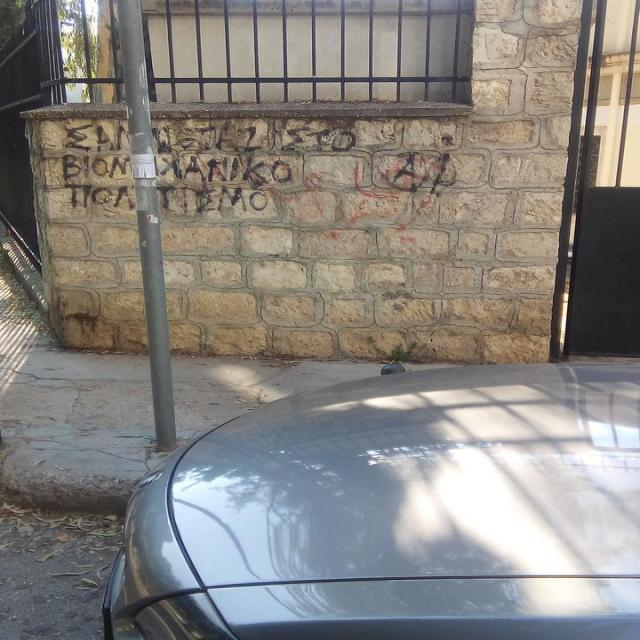nonspitting: (60, 119, 349, 214), (386, 133, 458, 197)
